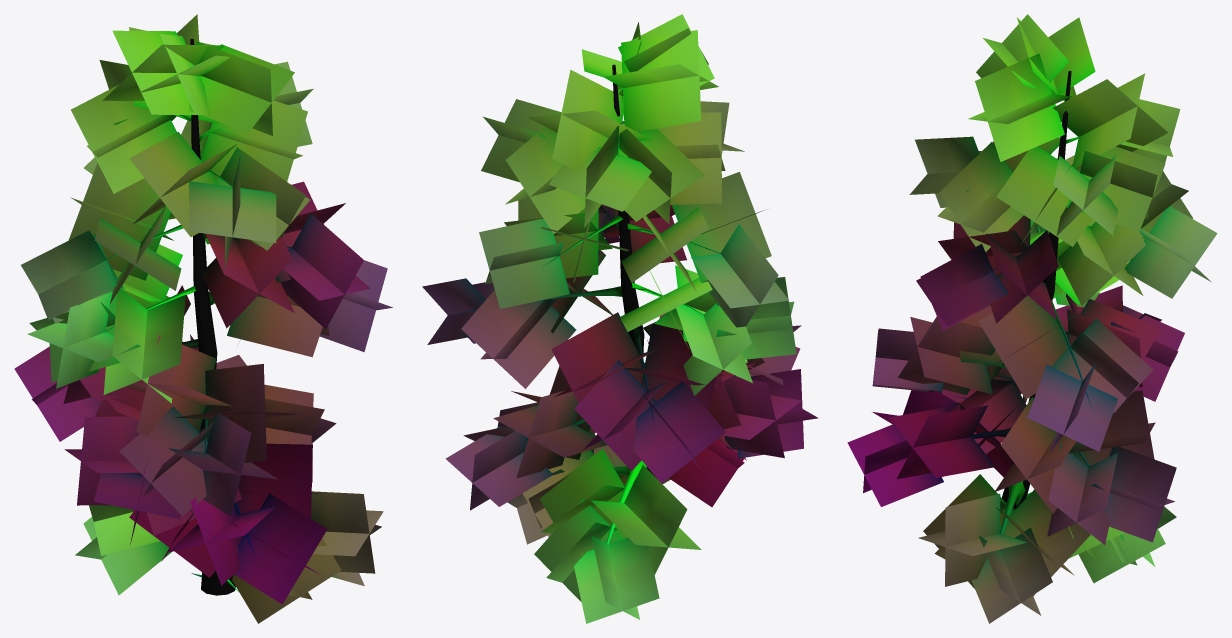
The model's file is URP_P7_Tree_3_LOD_2.fbx.
The picture shows the model from 3 angles, left to right: view 1: azimuth 30°, elevation 25°; view 2: azimuth 150°, elevation 25°; view 3: azimuth 270°, elevation 25°; orthographic projection. The views are drawn at different scales.
Visible parts, largest first — view 1: Tree_3_LOD_2; view 2: Tree_3_LOD_2; view 3: Tree_3_LOD_2.
Part boxes in pixels (left/top/right/bottom): Tree_3_LOD_2: left=14, top=14, right=392, bottom=623; Tree_3_LOD_2: left=422, top=14, right=818, bottom=623; Tree_3_LOD_2: left=847, top=14, right=1217, bottom=623.
Bounding box in the file's own units: 289 × 440 × 272.
